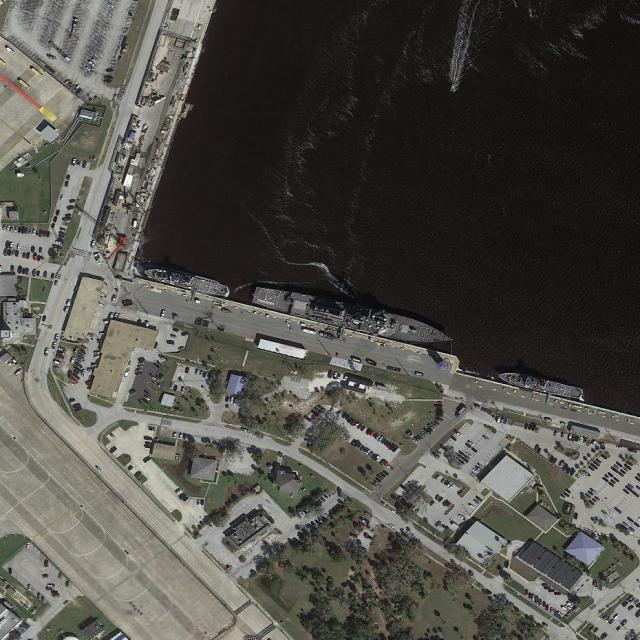Destroyer: (251, 282, 456, 352)
Frigate: (143, 263, 231, 299), (496, 368, 584, 403)
Other Ship: (449, 81, 458, 93)
